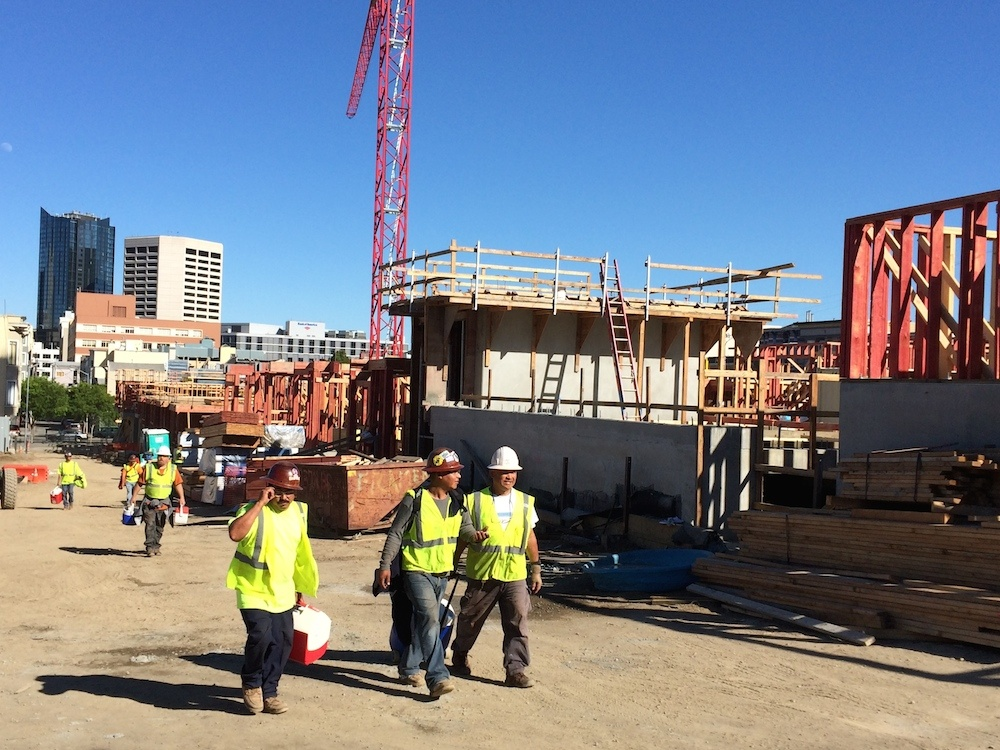red: (267, 460, 299, 508), (427, 447, 463, 488), (127, 453, 137, 465), (64, 451, 72, 461)
white: (489, 445, 519, 492), (157, 446, 168, 465)
